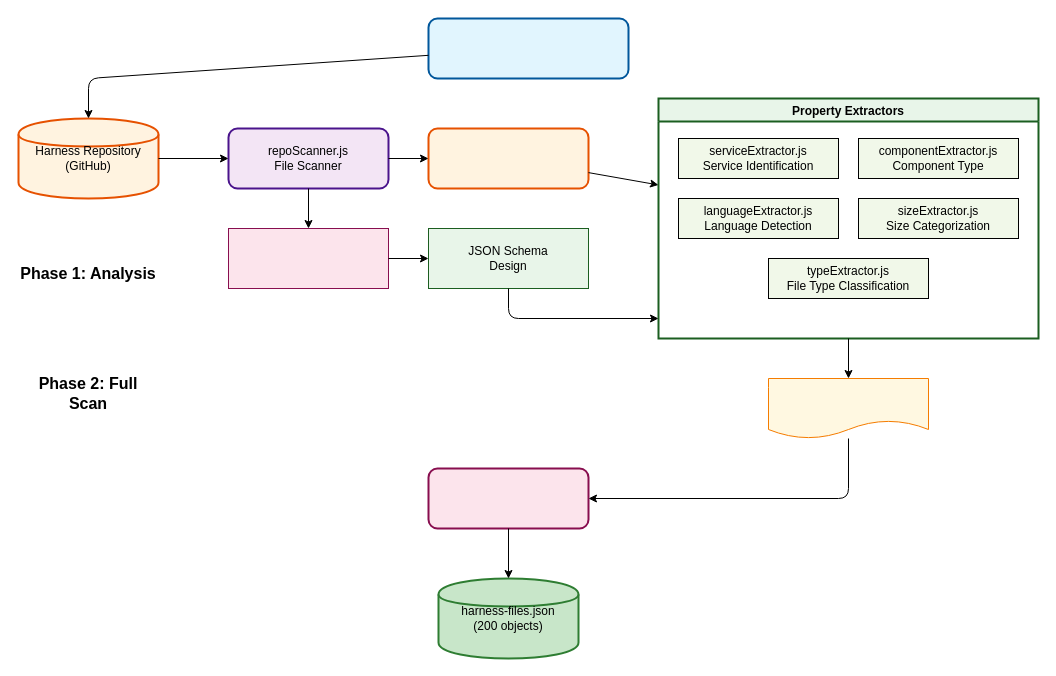
This 1056x676 diagram has some shape labels left out. The shapes that lost their labels are listed below. From the top down, each one's centre as x and y in pixels, then its label:
point 528,48: index.js Main Orchestrator
point 508,158: fileAnalyzer.js Property Extraction
point 308,258: Repository Analysis (Initial Scan)
point 848,408: File Object {properties}
point 508,498: jsonGenerator.js Dataset Creator
